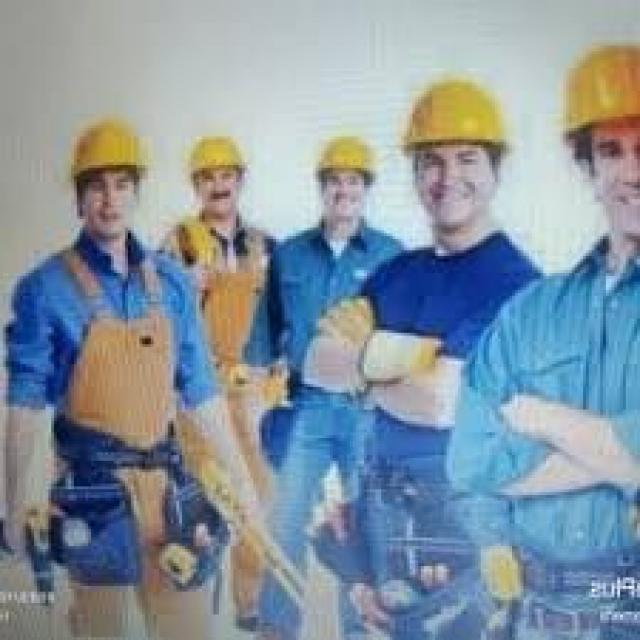Safety-Helmet: (392, 66, 520, 162), (546, 31, 640, 145), (54, 102, 159, 190), (176, 125, 259, 185), (307, 128, 390, 185)
